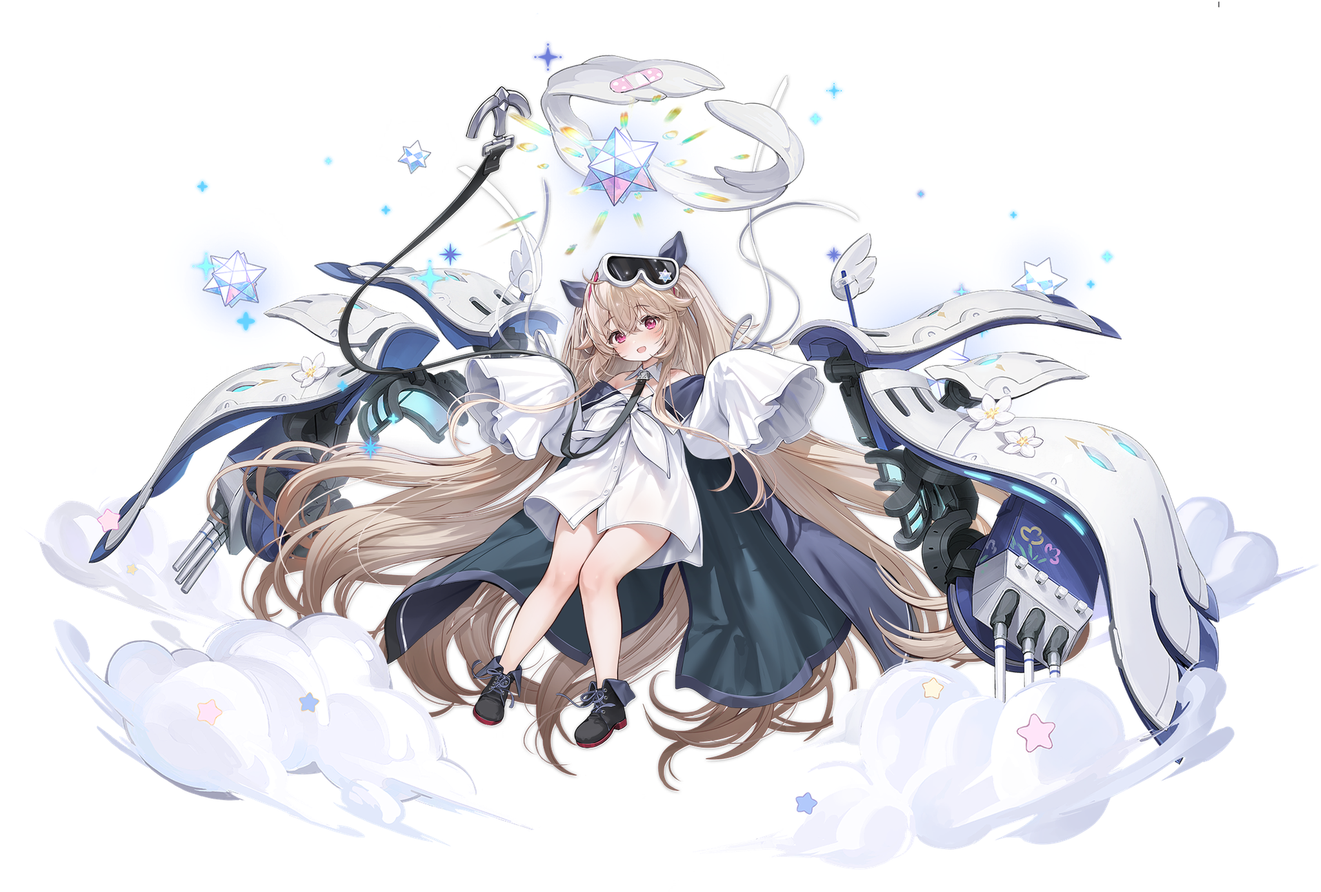person: (344, 223, 820, 803)
